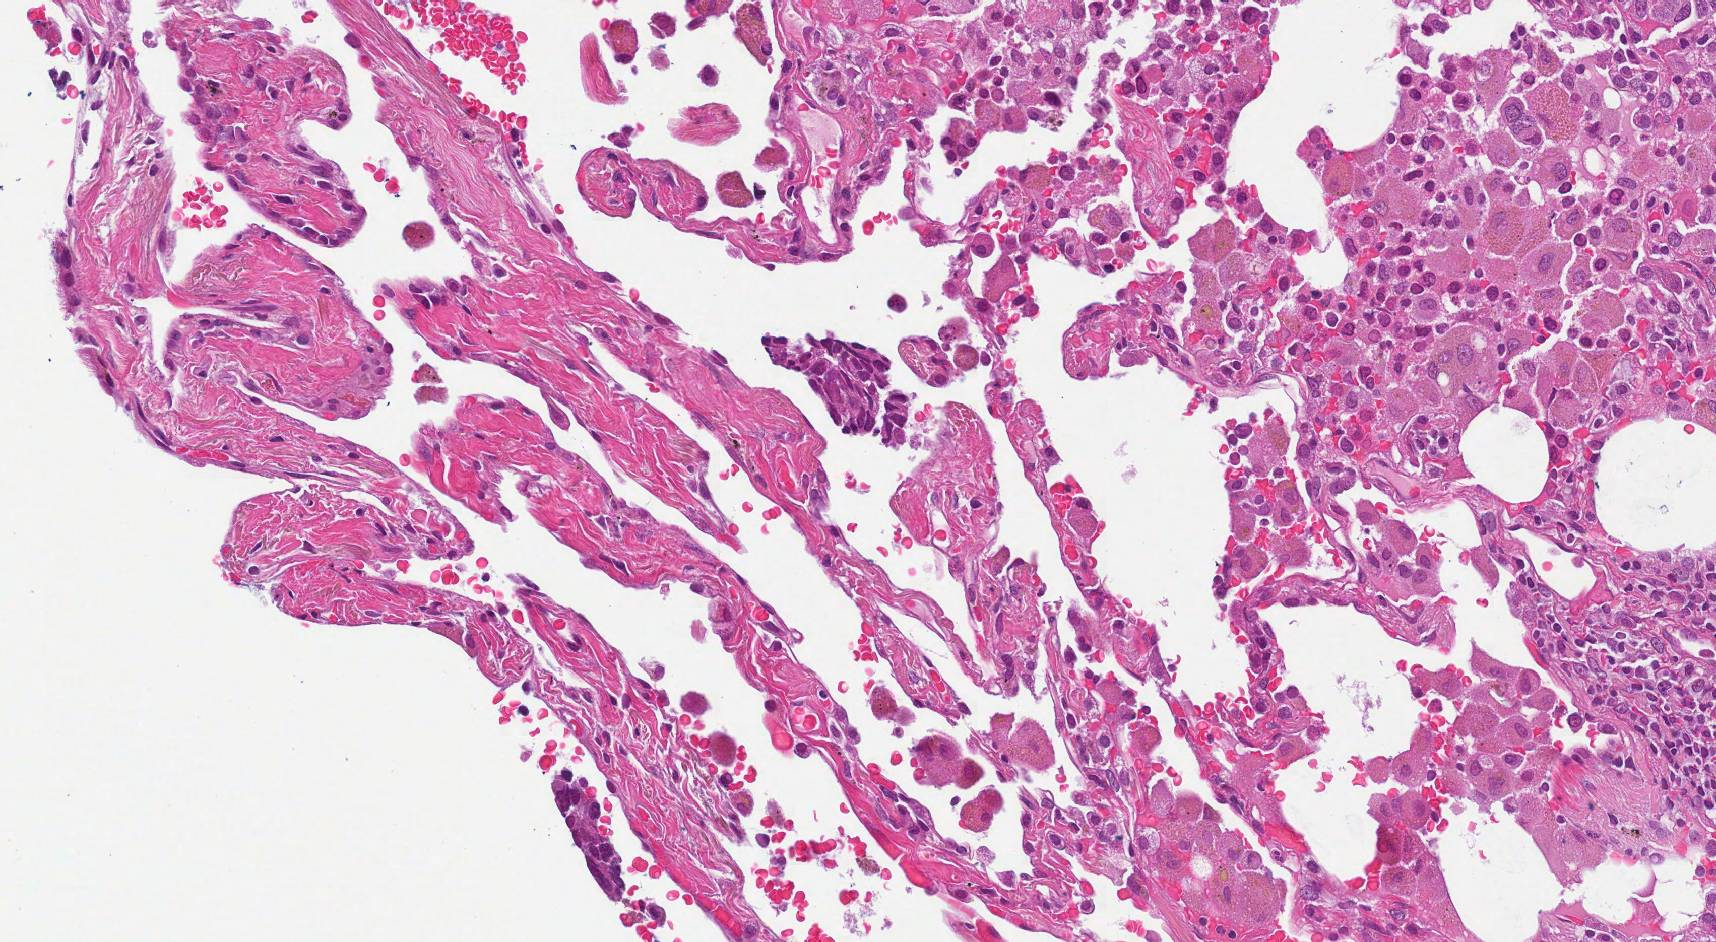stas: (763, 331, 910, 441), (551, 779, 630, 904)
